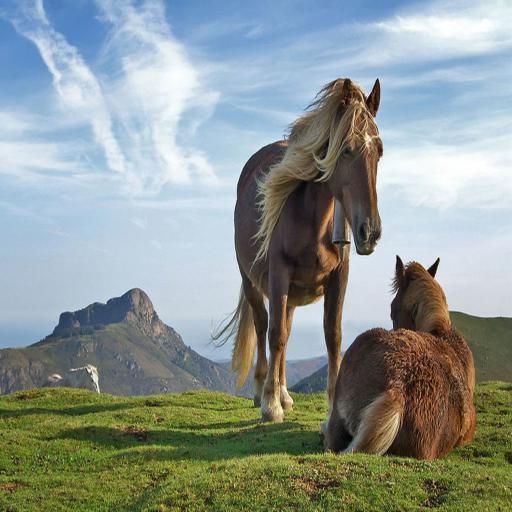Horse: (210, 78, 385, 422), (326, 257, 476, 460)
